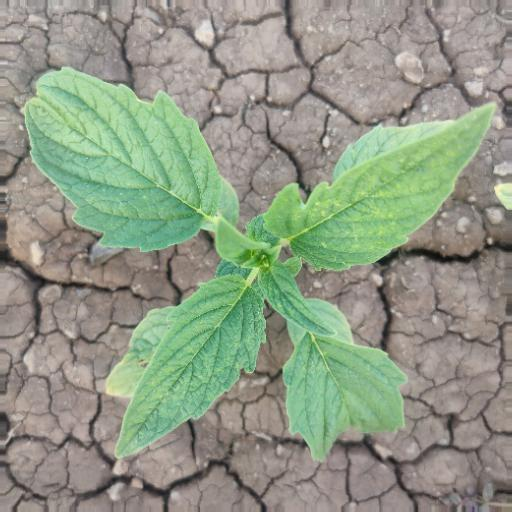crop: (18, 43, 499, 462)
